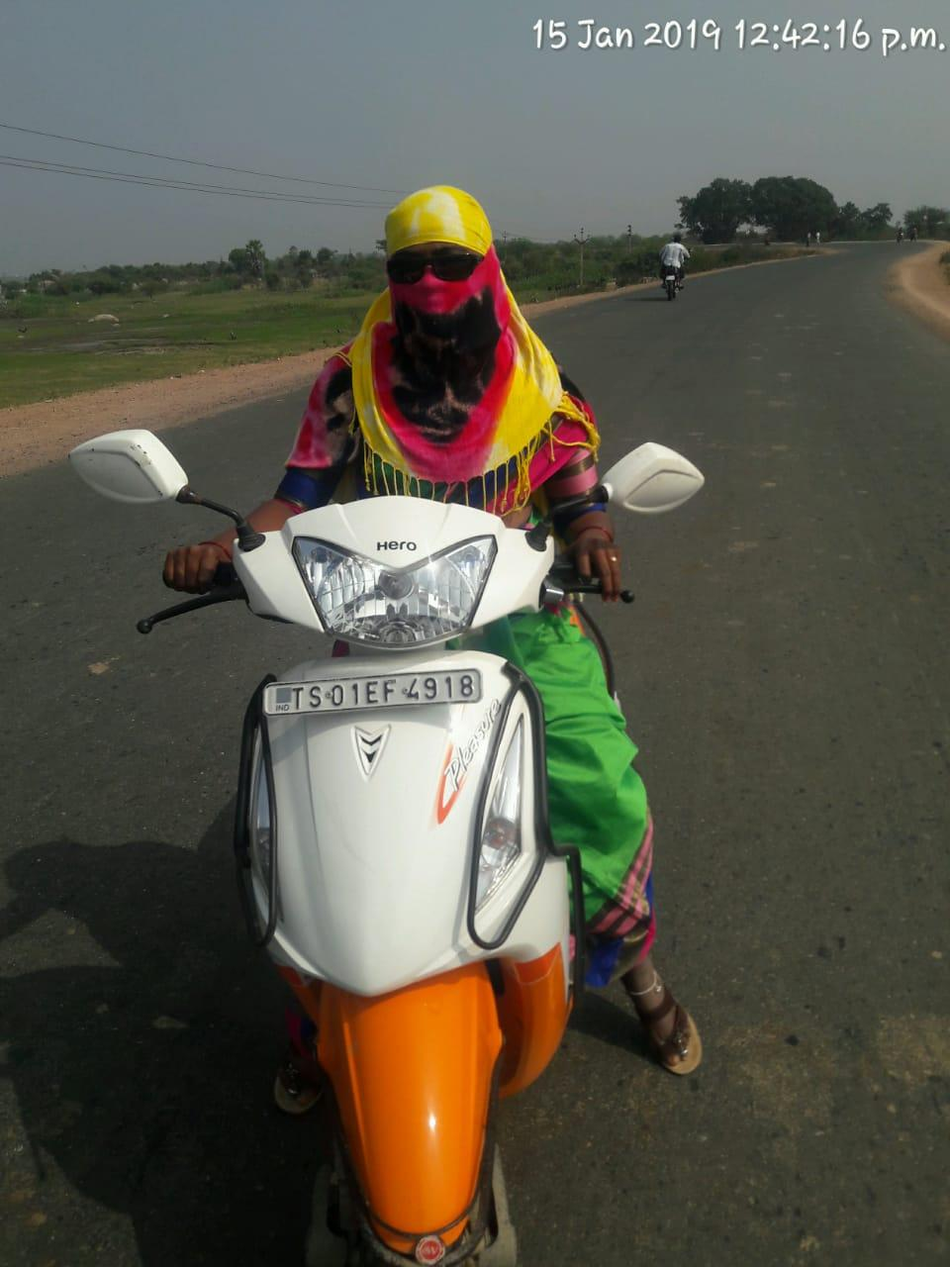plate: (253, 667, 490, 724)
